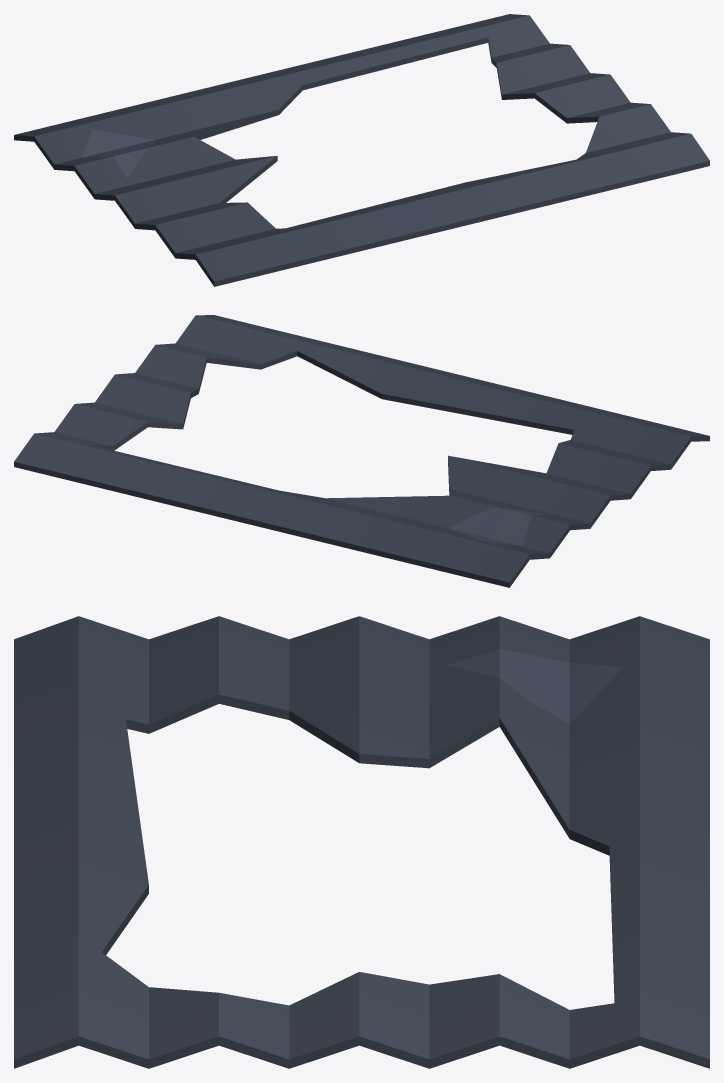
Rendered from SheetMetal_C_3.fbx.
3 views of the same model, one above another, from view 1: azimuth 30°, elevation 25°; view 2: azimuth 150°, elevation 25°; view 3: azimuth 270°, elevation 25° (orthographic). The views are drawn at different scales.
Visible parts, largest first — view 1: SheetMetal_C_3; view 2: SheetMetal_C_3; view 3: SheetMetal_C_3.
Part boxes in pixels (x1=…): SheetMetal_C_3: x1=14, y1=14, x2=709, y2=286; SheetMetal_C_3: x1=14, y1=315, x2=709, y2=587; SheetMetal_C_3: x1=14, y1=616, x2=709, y2=1068.
Size of the model in its own units: 137 by 4.96 by 96.03.
